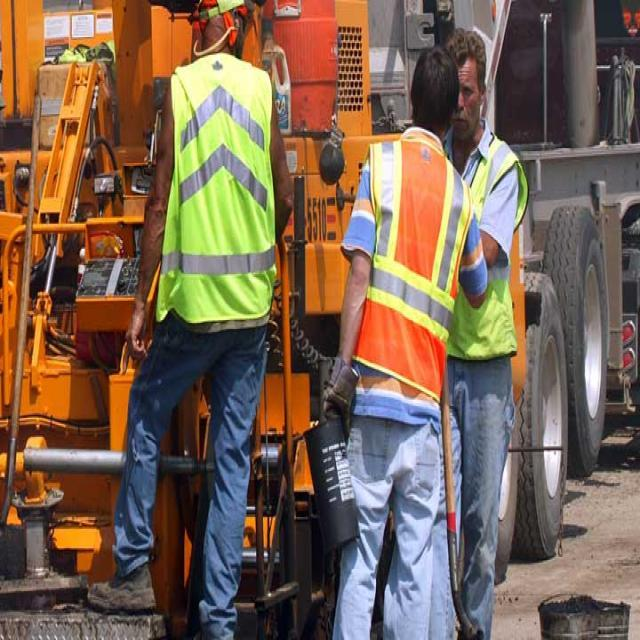reflective_jacket: (148, 49, 279, 338), (349, 134, 472, 407), (445, 131, 529, 367)
